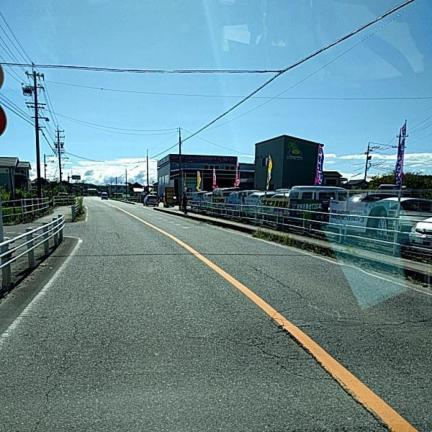Road: (0, 198, 431, 431)
